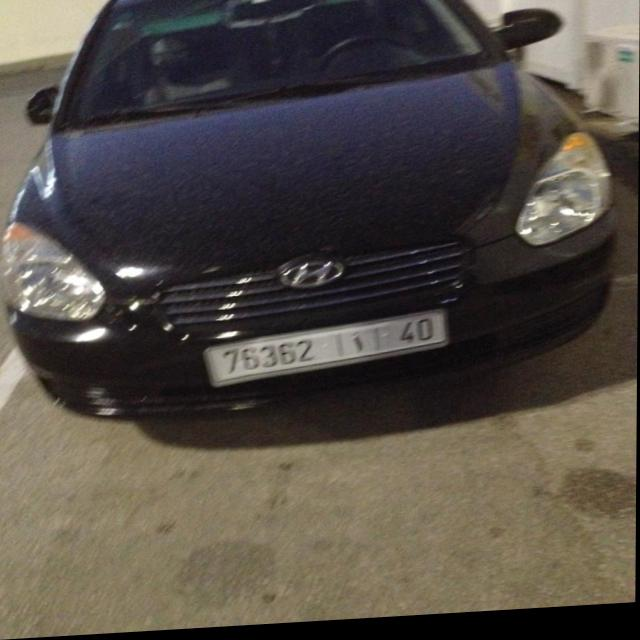License-Plate: (205, 316, 448, 390)
